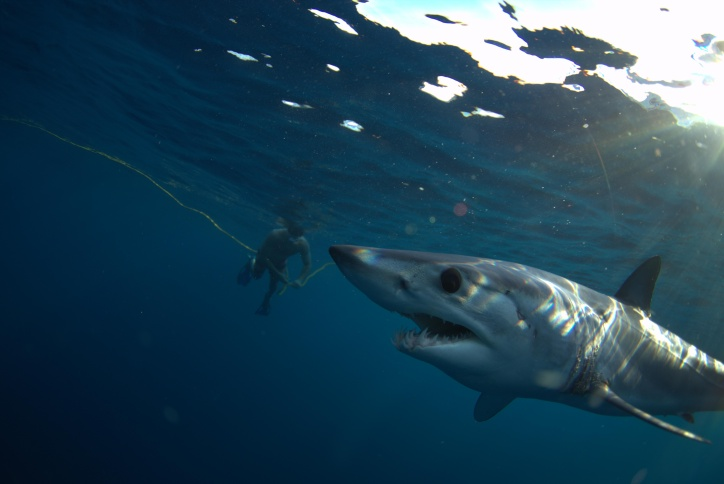Mako: (311, 229, 724, 445)
